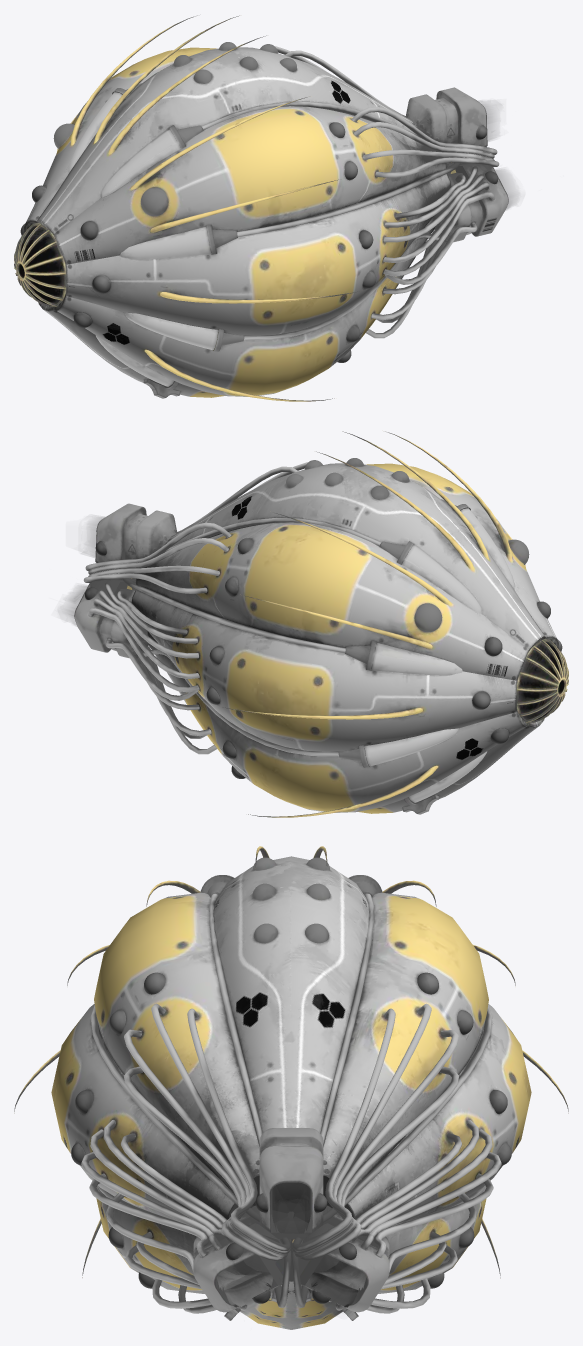
File: pod.glb
3 renders of one model, top to bottom at view 1: azimuth 30°, elevation 25°; view 2: azimuth 150°, elevation 25°; view 3: azimuth 270°, elevation 25°, orthographic. The views are drawn at different scales.
Parts seen in each view (by area): view 1: Sphere.152_copy_low; view 2: Sphere.152_copy_low; view 3: Sphere.152_copy_low.
Part boxes in pixels (x1,y1,x2,y2): Sphere.152_copy_low: (14,15,519,401); Sphere.152_copy_low: (58,431,568,817); Sphere.152_copy_low: (14,846,568,1329).
Size of the model in its own units: 1.83 by 1.18 by 1.27.
Materials: 2 (2 with a texture image).
